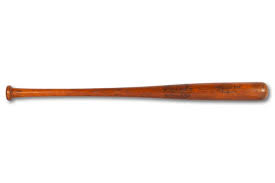bat: (5, 80, 269, 103)
